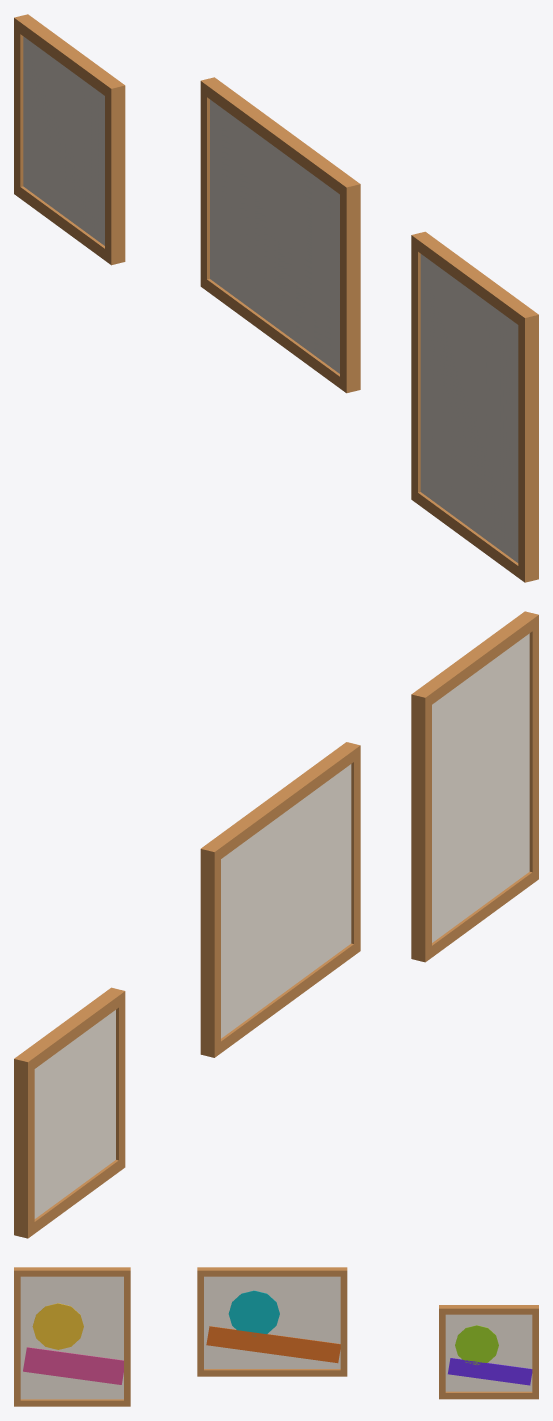
3 renders of one model, top to bottom at view 1: azimuth 30°, elevation 25°; view 2: azimuth 150°, elevation 25°; view 3: azimuth 270°, elevation 25°, orthographic. The views are drawn at different scales.
Parts seen in each view (by area): view 1: painting_0_canvas, painting_1_canvas, painting_0, painting_2_canvas, painting_1, painting_2; view 2: painting_1_canvas, painting_0_canvas, painting_0, painting_2_canvas, painting_1, painting_2; view 3: painting_0_canvas, painting_1_canvas, painting_2_canvas, painting_1, painting_0, painting_2, painting_1_band, painting_0_band, painting_0_sun, painting_1_sun, painting_2_band, painting_2_sun.
Boxes of the visible parts, x1=… form: painting_0_canvas: x1=420, y1=254, x2=518, y2=562; painting_1_canvas: x1=210, y1=99, x2=339, y2=373; painting_0: x1=411, y1=231, x2=538, y2=582; painting_2_canvas: x1=23, y1=36, x2=104, y2=245; painting_1: x1=200, y1=77, x2=360, y2=393; painting_2: x1=14, y1=14, x2=125, y2=265; painting_1_canvas: x1=221, y1=764, x2=351, y2=1038; painting_0_canvas: x1=432, y1=633, x2=529, y2=942; painting_0: x1=411, y1=611, x2=538, y2=962; painting_2_canvas: x1=34, y1=1010, x2=115, y2=1218; painting_1: x1=200, y1=742, x2=360, y2=1057; painting_2: x1=14, y1=987, x2=125, y2=1238; painting_0_canvas: x1=20, y1=1276, x2=123, y2=1399; painting_1_canvas: x1=204, y1=1276, x2=340, y2=1368; painting_2_canvas: x1=445, y1=1314, x2=532, y2=1391; painting_1: x1=197, y1=1267, x2=347, y2=1376; painting_0: x1=14, y1=1267, x2=130, y2=1406; painting_2: x1=439, y1=1305, x2=538, y2=1399; painting_1_band: x1=206, y1=1326, x2=340, y2=1363; painting_0_band: x1=23, y1=1347, x2=123, y2=1384; painting_0_sun: x1=32, y1=1303, x2=83, y2=1349; painting_1_sun: x1=228, y1=1290, x2=279, y2=1336; painting_2_band: x1=448, y1=1358, x2=532, y2=1385; painting_2_sun: x1=455, y1=1325, x2=498, y2=1364.
Bounding box in the file's own units: 0.05 × 0.9 × 3.15.
